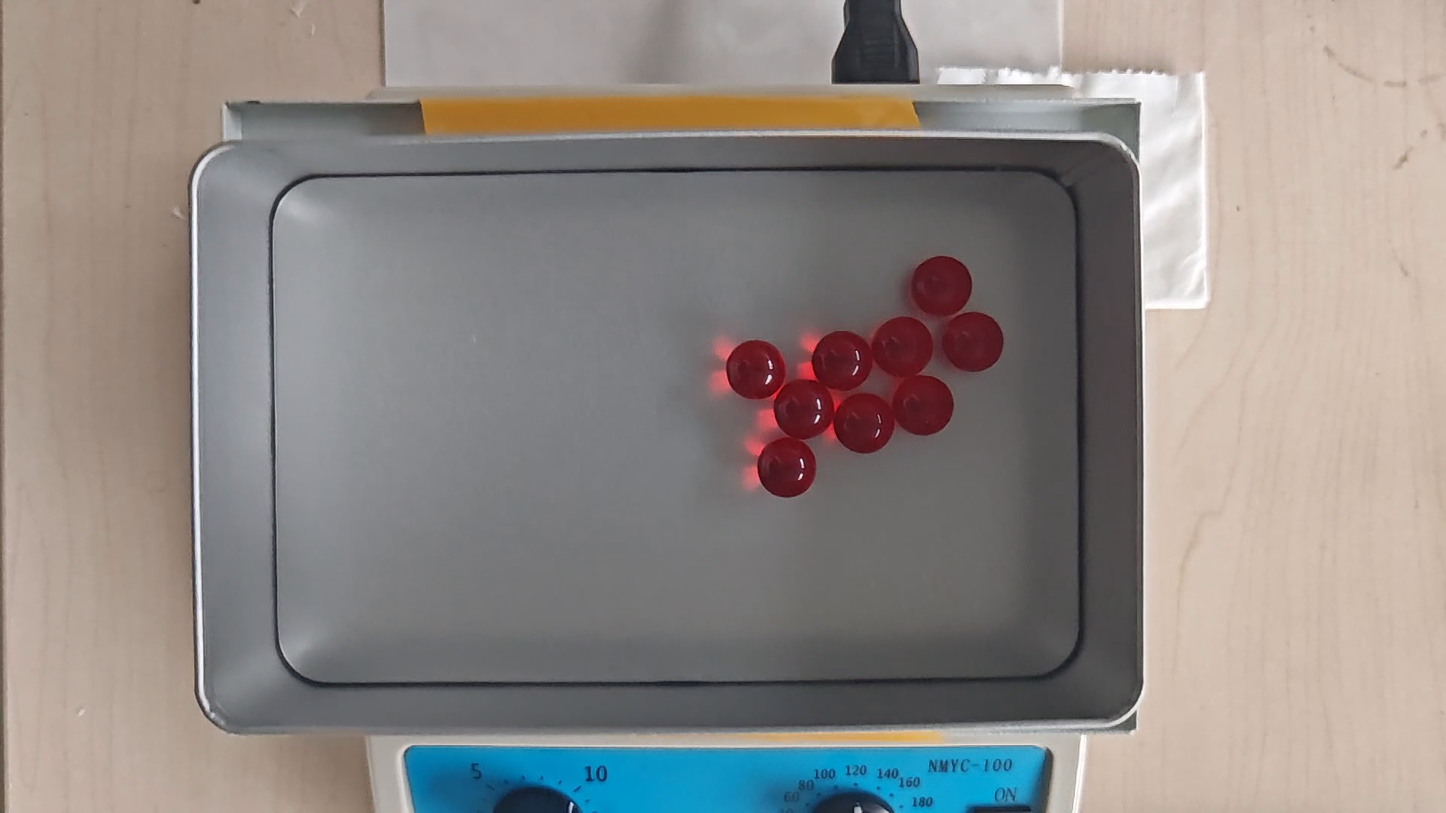ball: (942, 312, 1005, 374), (834, 391, 895, 455), (911, 255, 973, 317), (893, 376, 955, 437), (757, 437, 817, 499), (873, 316, 933, 377), (726, 339, 785, 400), (813, 331, 871, 391), (775, 380, 832, 438)
container: (273, 169, 1080, 683)
